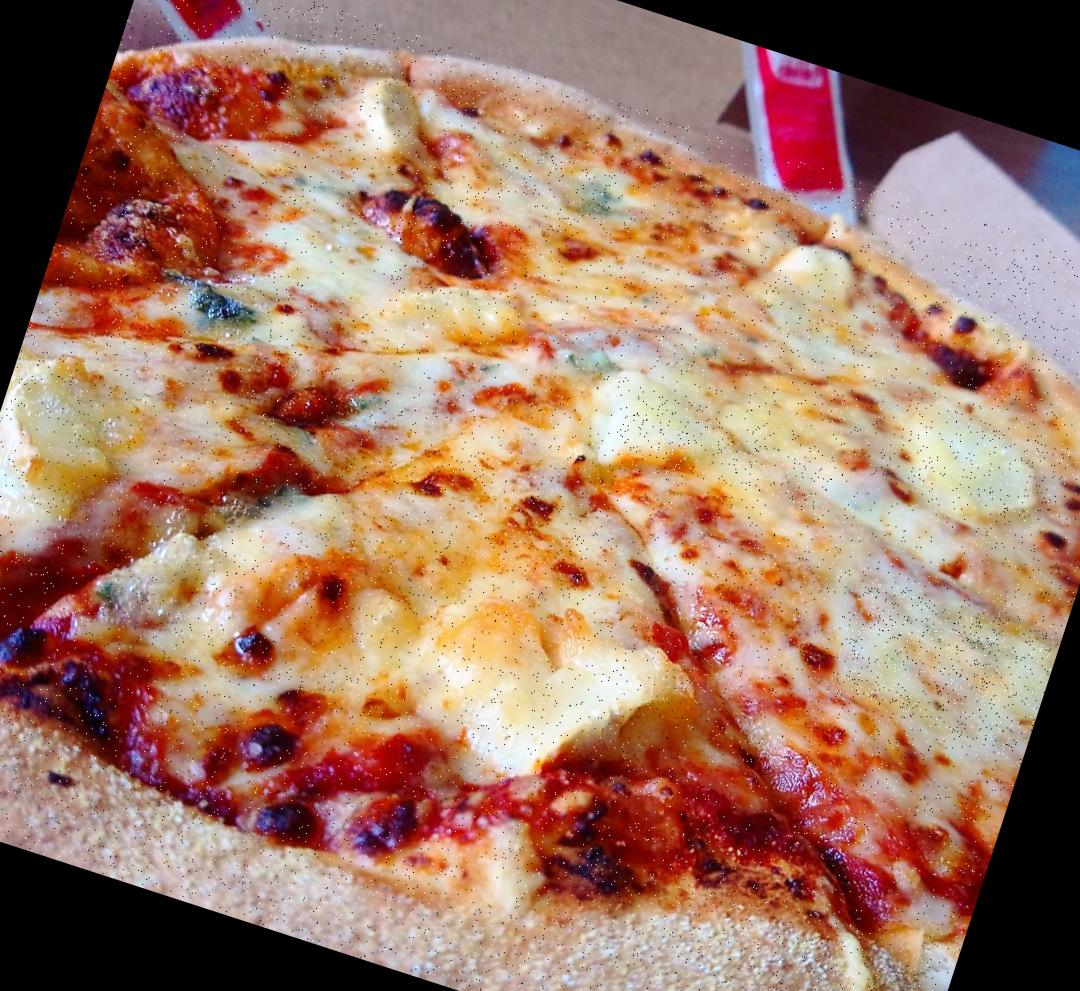Cheese: (826, 574, 1062, 758), (402, 438, 610, 592), (614, 386, 834, 515), (872, 395, 1067, 530), (702, 272, 910, 398), (482, 140, 624, 235), (283, 218, 391, 306)
Pizza: (0, 0, 1080, 991)
